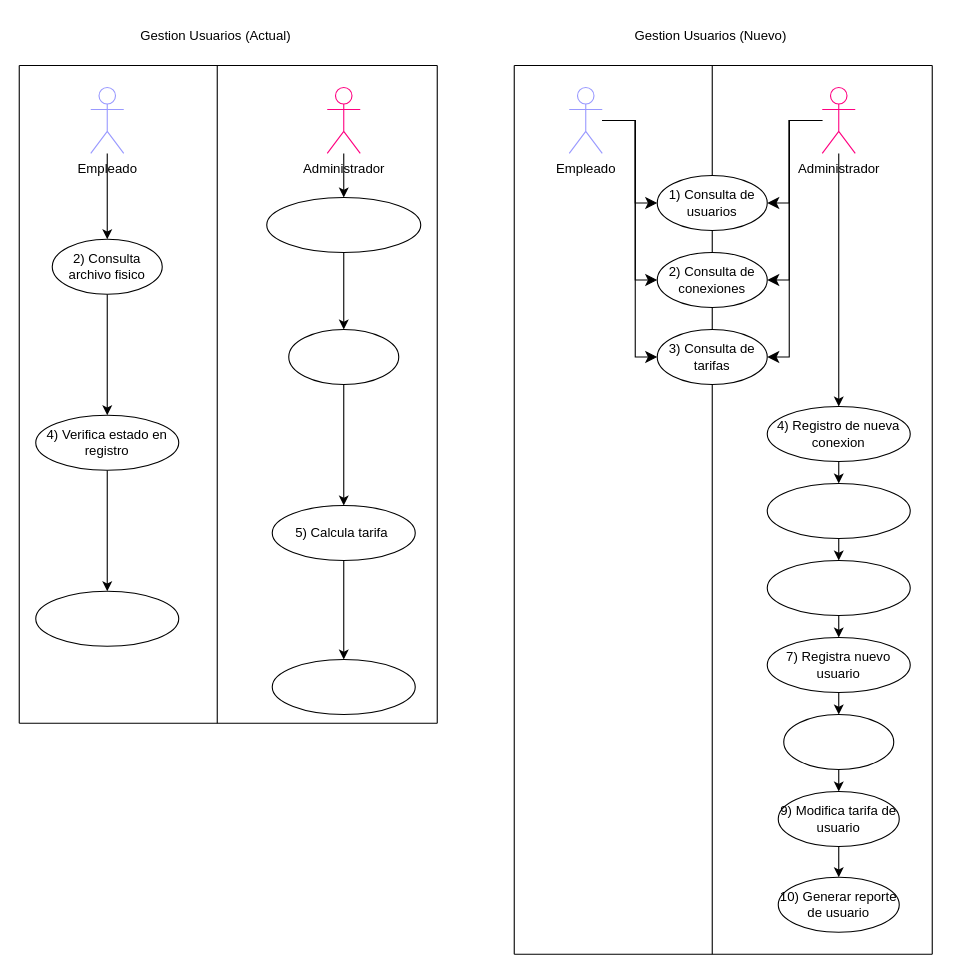
This 953x975 diagram has some shape labels left out. The shapes that lost their labels are listed below. From the top down, each one's centre as x and y in pixels, then its label:
At point 343,224: "1) Llenar formulario de registro".
At point 343,356: "3) Modifica registros".
At point 838,510: "5) Modificar datos de conexion".
At point 838,587: "6) Gestiona datos de conexion".
At point 107,618: "6) Guarda registro del usuario".
At point 343,686: "7) Notifica al usuario sobre el proceso".
At point 838,741: "8) Asigna tarifa a usuario".
